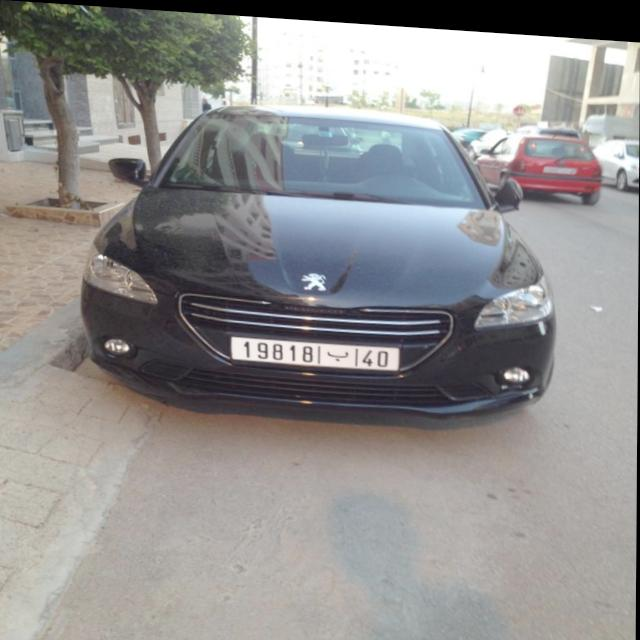License-Plate: (231, 334, 400, 365)
